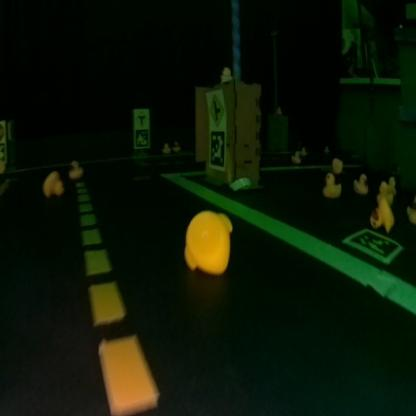duckie: (168, 190, 256, 318), (318, 166, 347, 210), (38, 164, 66, 203), (66, 152, 92, 189), (404, 184, 416, 232)
